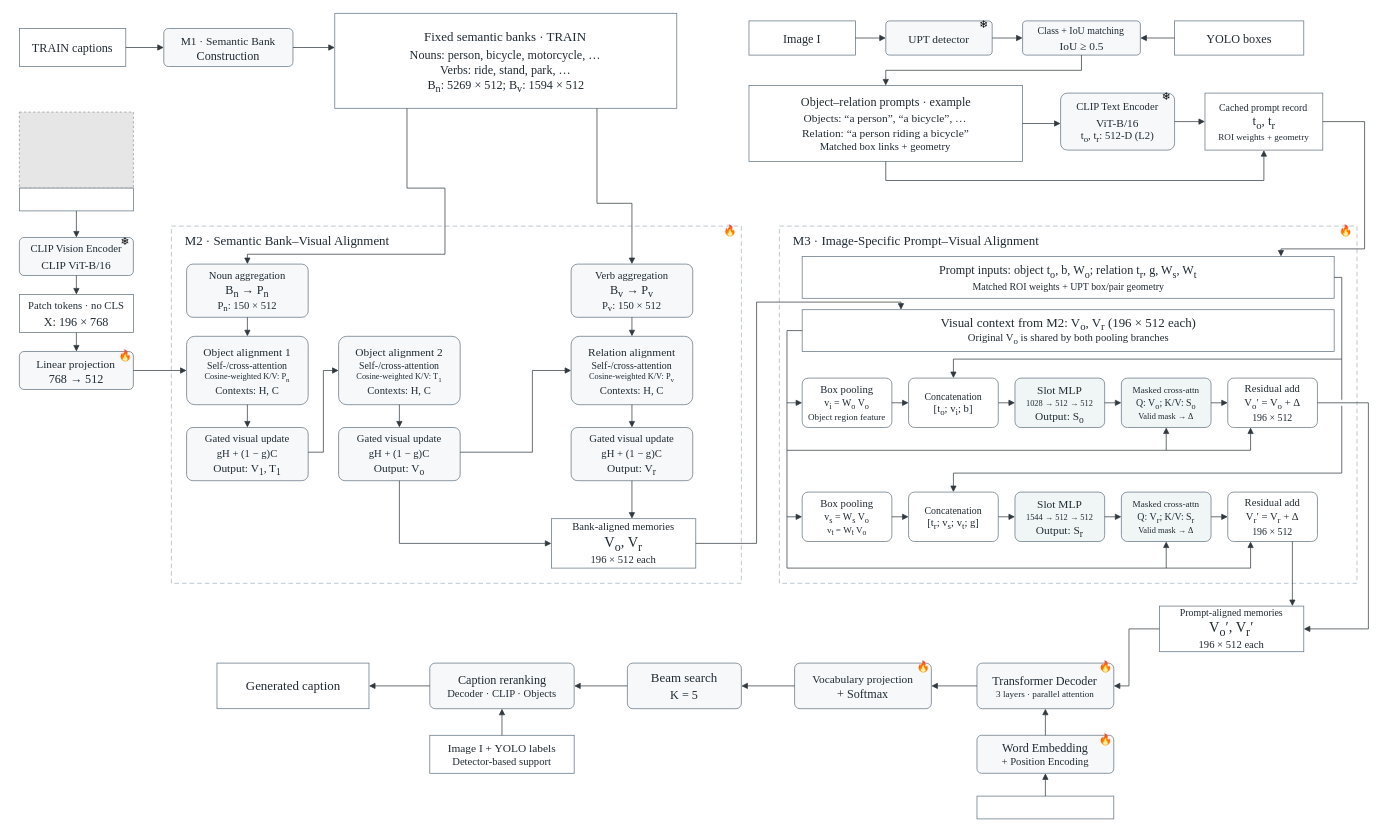
This 1389x832 diagram has some shape labels left out. Grey dashed boxes stand in for pictures. Here are the shapes that lost their labels. From the top down, the box of each, then its label:
(19, 187, 133, 211): Input image I
(976, 795, 1114, 819): Caption prefix
